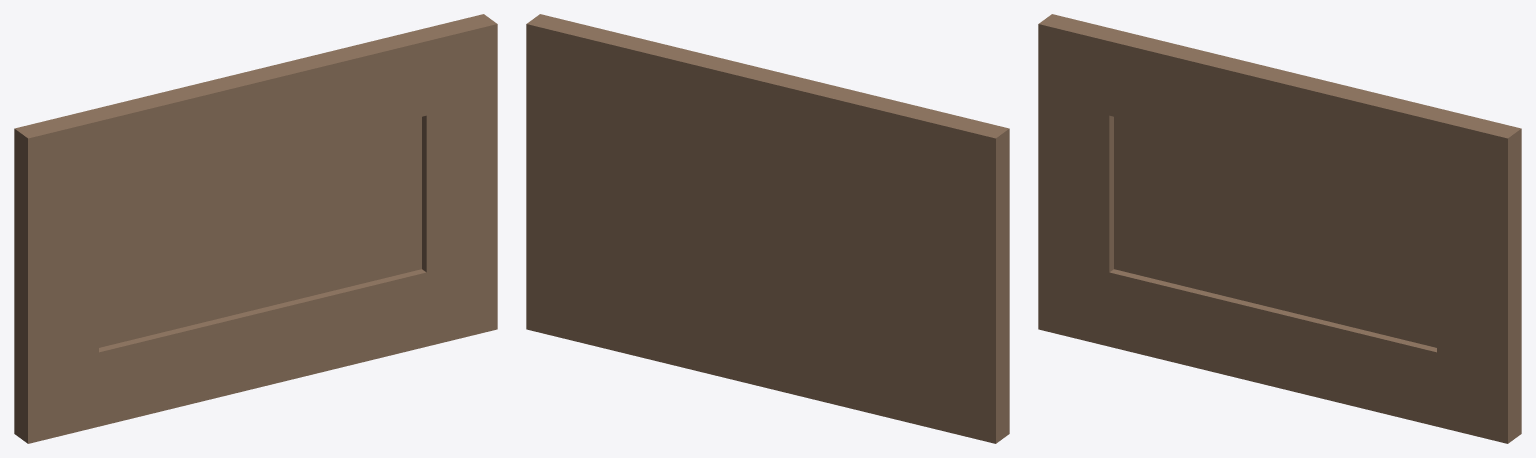
The model's file is drawer_front_07.obj.
3 renders of one model, left to right at view 1: azimuth 30°, elevation 25°; view 2: azimuth 150°, elevation 25°; view 3: azimuth 330°, elevation 25°, orthographic.
Parts seen in each view (by area): view 1: drawer_front_07; view 2: drawer_front_07; view 3: drawer_front_07.
Boxes of the visible parts, box(x1,y1,x2,y2) form: drawer_front_07: box(14, 14, 497, 443); drawer_front_07: box(526, 14, 1009, 443); drawer_front_07: box(1038, 14, 1521, 443).
Size of the model in its own units: 378 by 235 by 19.05.
